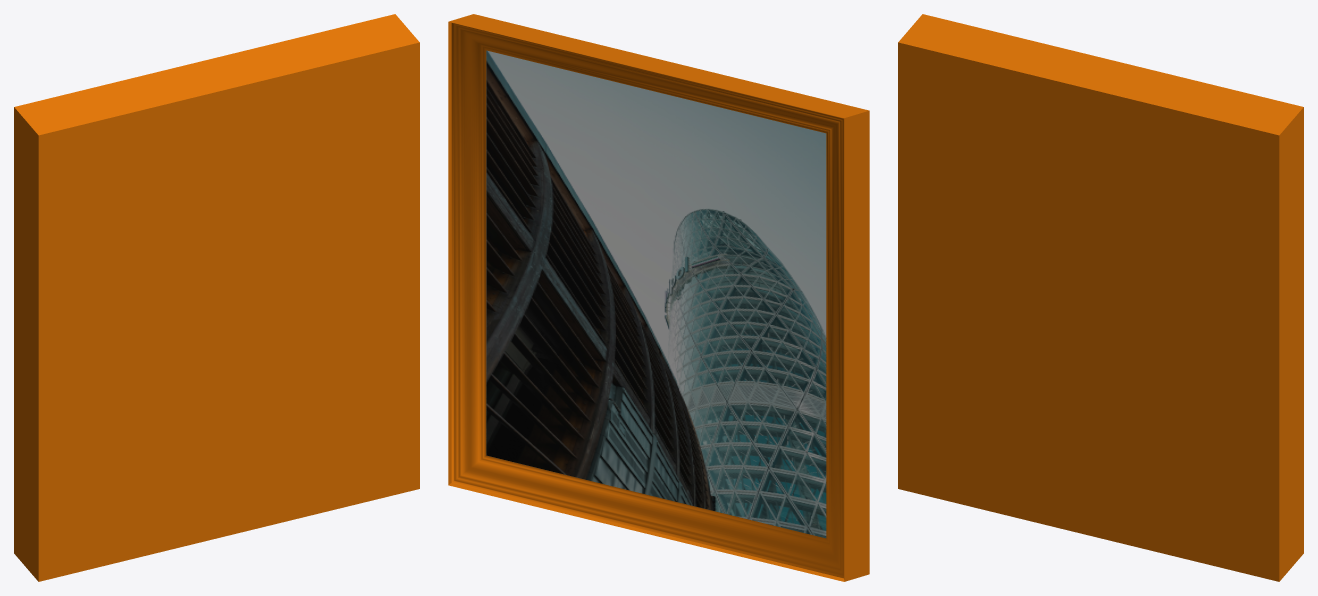
3 renders of one model, left to right at view 1: azimuth 30°, elevation 25°; view 2: azimuth 150°, elevation 25°; view 3: azimuth 330°, elevation 25°, orthographic. The views are drawn at different scales.
Visible parts, largest first — view 1: Cube; view 2: Cube; view 3: Cube.
Boxes of the visible parts, <box> form: Cube: <box>14,14,419,581</box>; Cube: <box>448,14,869,581</box>; Cube: <box>898,14,1303,581</box>.
Bounding box in the file's own units: 2 × 2.29 × 0.2224.
2 materials, 1 textured.
